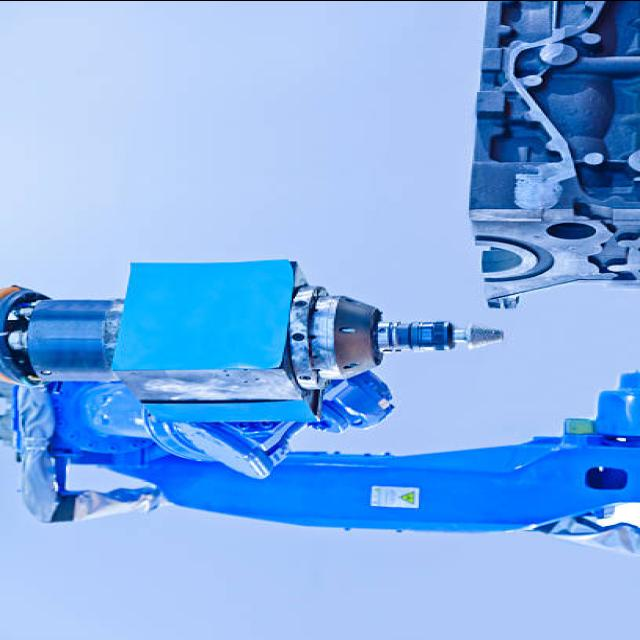Robotic-arm: (0, 250, 640, 544)
